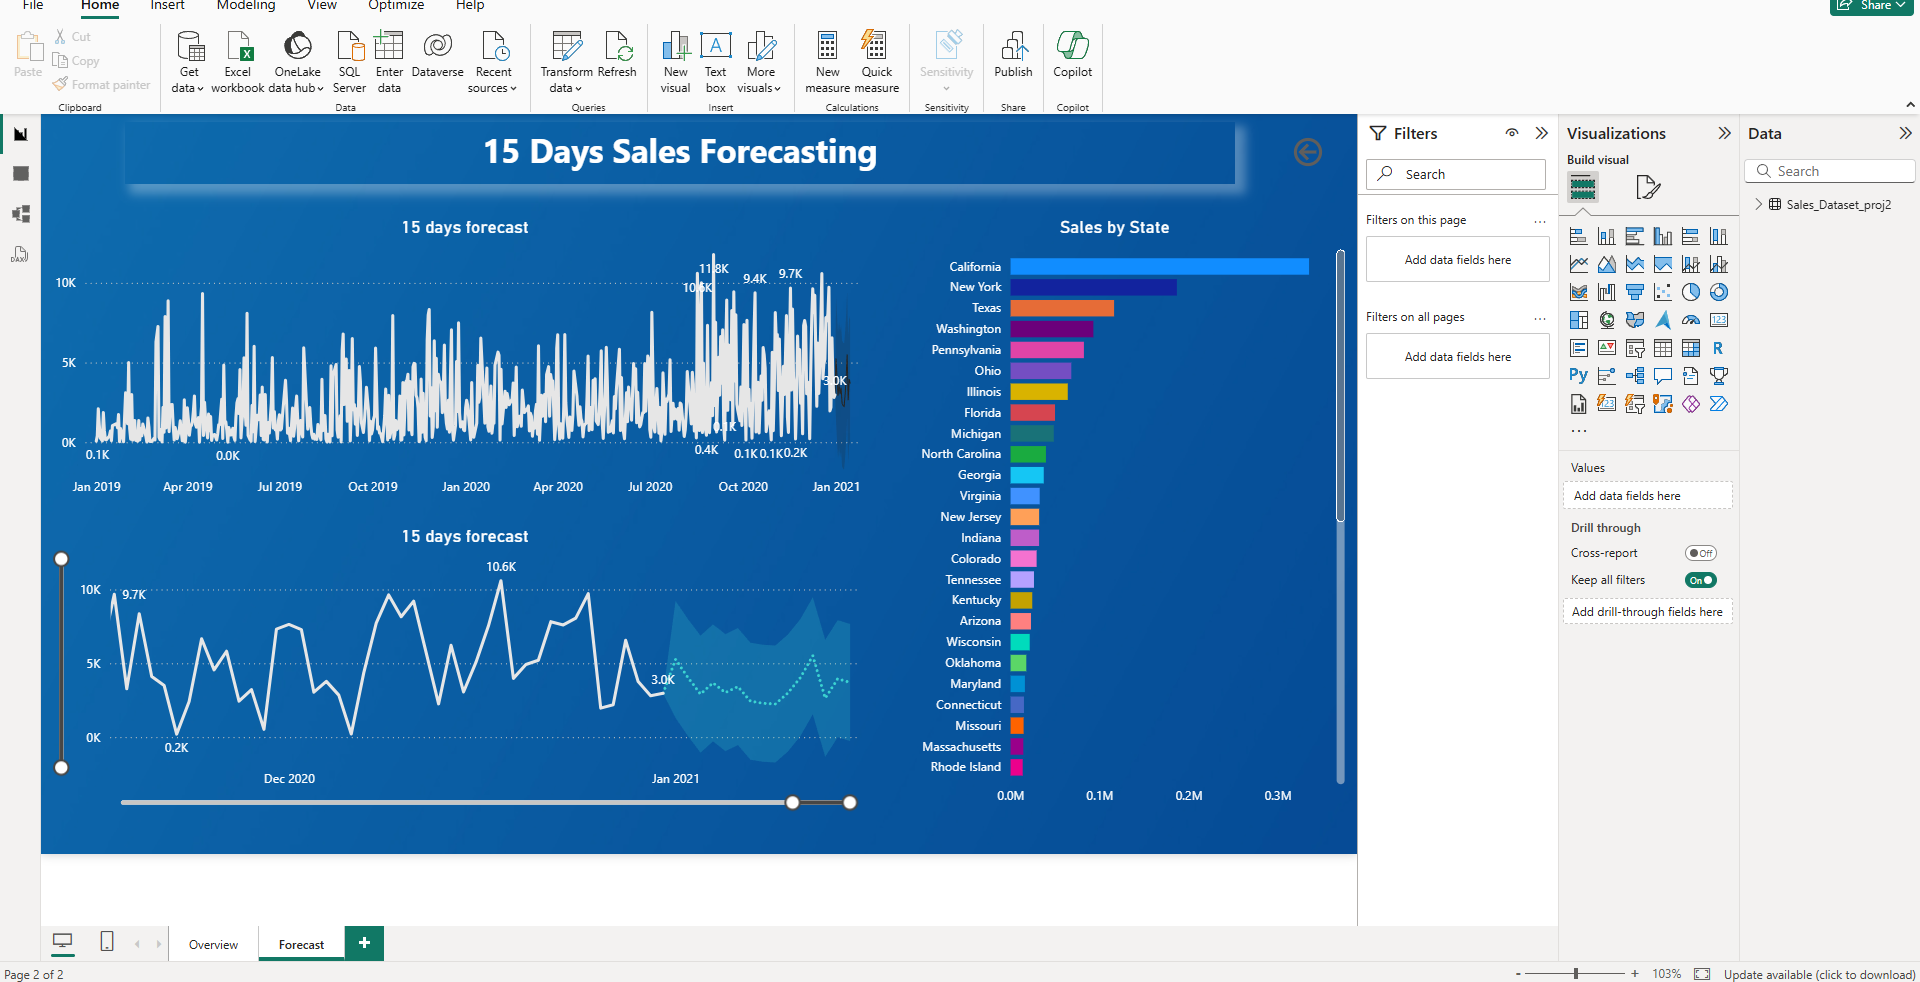

Layout of this report page (visuals, bound fields, positions):
{"tool":"powerbi","page":{"name":"Forecast","canvas":[1280,720],"ordinal":1},"visuals":[{"type":"lineChart","title":"15 days forecast","fields":{"Y":["Sum(Sales_Dataset_proj2.Sales)"],"Category":["Sales_Dataset_proj2.Order Date"]},"box":[8.8,100.2,807.3,280.1],"z":0},{"type":"textbox","box":[81.7,7.8,1079.6,60.3],"z":1000},{"type":"lineChart","title":"15 days forecast","fields":{"Y":["Sum(Sales_Dataset_proj2.Sales)"],"Category":["Sales_Dataset_proj2.Order Date"]},"box":[8.8,400.7,807.3,280.1],"z":2000},{"type":"barChart","title":"Sales by State","fields":{"Category":["Sales_Dataset_proj2.State"],"Y":["Sum(Sales_Dataset_proj2.Sales)"],"Series":["Sales_Dataset_proj2.State"]},"box":[816,100.2,457.1,580.7],"z":3000},{"type":"actionButton","box":[1213.9,17.5,37,39.9],"z":4000}]}

Visuals, with their boxes on the page's 1280x720 design canvas (x1, y1, x2, y2). These are canvas units, not pixel positions in the 1920x982 screenshot, which may show the page scaled, cropped or inside an application window:
"15 days forecast" lineChart: select_region(9, 100, 816, 380)
textbox: select_region(82, 8, 1161, 68)
"15 days forecast" lineChart: select_region(9, 401, 816, 681)
"Sales by State" barChart: select_region(816, 100, 1273, 681)
actionButton: select_region(1214, 18, 1251, 57)
